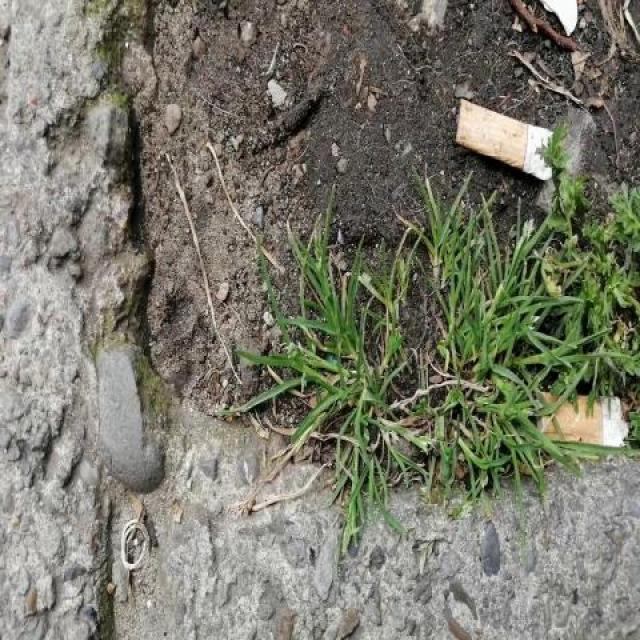non-organic waste: (452, 93, 560, 187), (532, 388, 632, 455)
